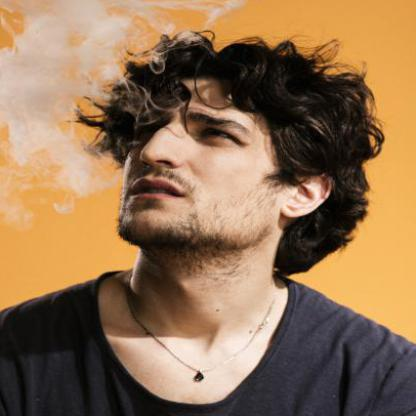person: (78, 41, 387, 415)
smoke: (0, 2, 108, 203)
